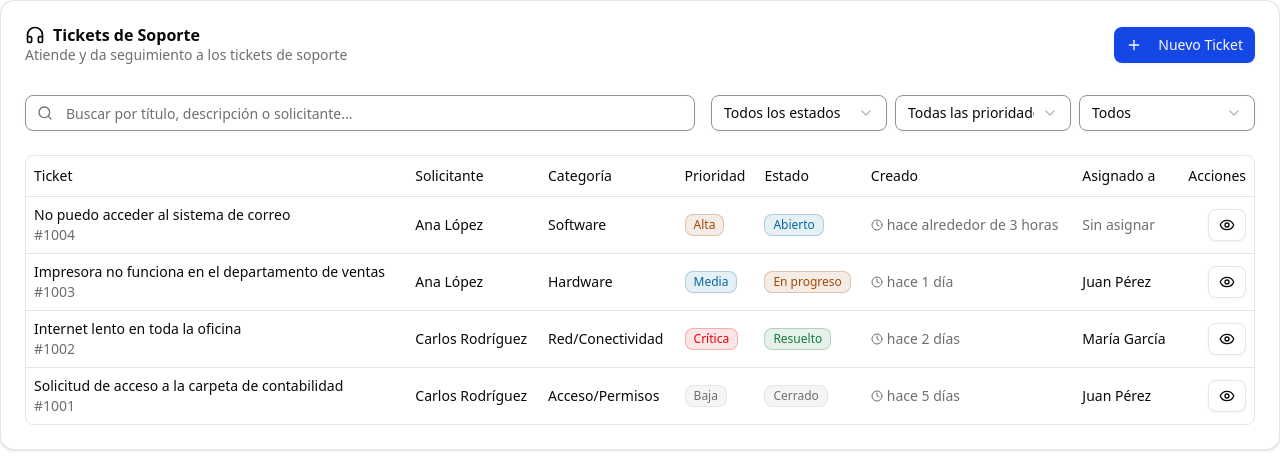
Scenario: TicketList › searches tickets
Expected: the text "Internet lento en toda la oficina" is shown, left=34, top=318, right=241, bottom=338
Step 1. Type "impresora" into the field named "Buscar tickets" → [360, 113], box left=25, top=95, right=695, bottom=131
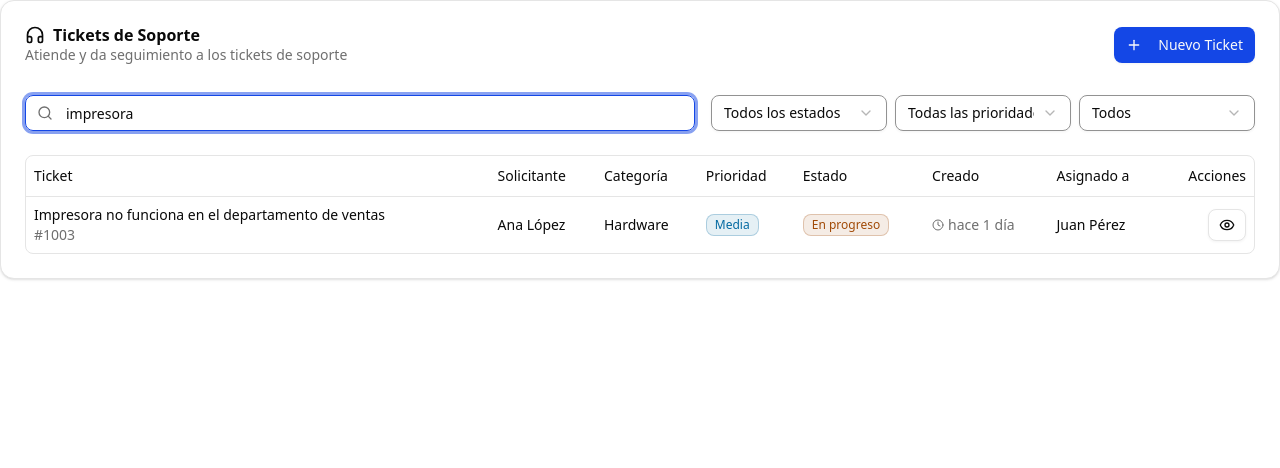
Expected: the text "Impresora no funciona en el departamento de ventas" is shown, left=34, top=204, right=385, bottom=224
Expected: the text "Internet lento en toda la oficina" is gone
